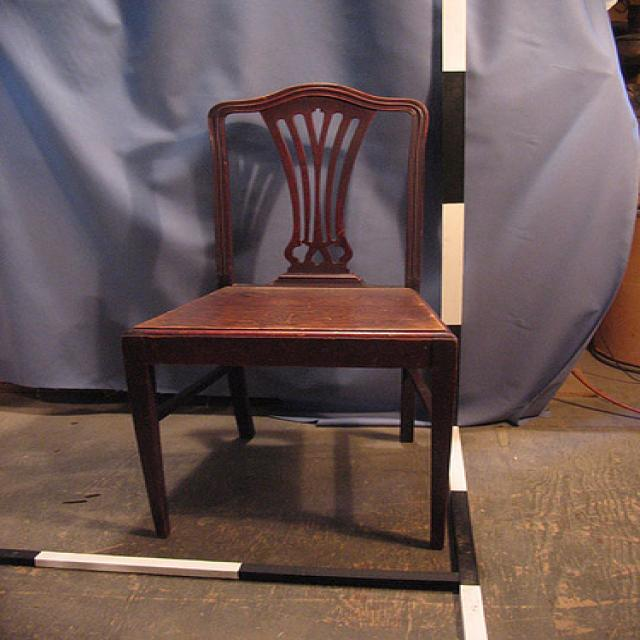chair: (117, 80, 463, 556)
